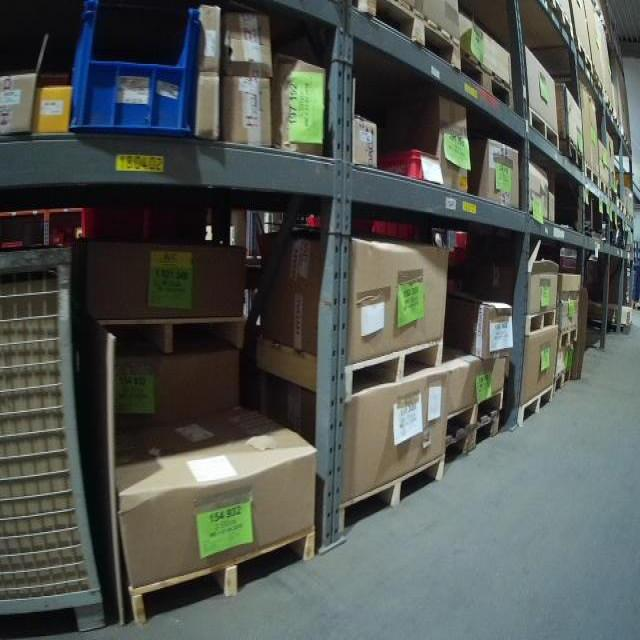pallet: (124, 519, 320, 626), (257, 332, 445, 394), (332, 448, 446, 535), (341, 1, 460, 76), (91, 303, 250, 358), (458, 38, 520, 116), (438, 415, 500, 471), (437, 390, 506, 436), (504, 378, 559, 431), (521, 105, 562, 163), (514, 297, 557, 335), (538, 1, 577, 42), (563, 137, 586, 173), (554, 324, 579, 351), (582, 163, 603, 192), (552, 369, 571, 393), (599, 179, 611, 201)
small_load_carrier: (68, 3, 206, 144), (372, 147, 443, 189)
stillage: (1, 238, 105, 640)
